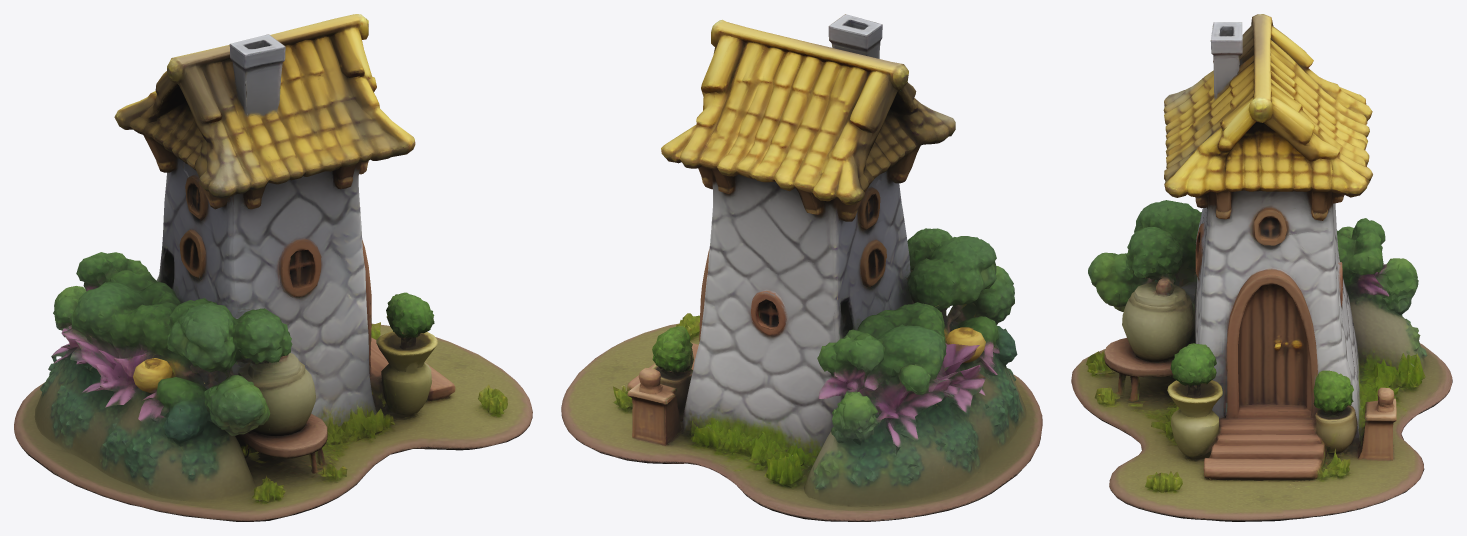
Rendered from fantasyxcottage-south.glb.
The picture shows the model from 3 angles, left to right: view 1: azimuth 30°, elevation 25°; view 2: azimuth 150°, elevation 25°; view 3: azimuth 270°, elevation 25°; orthographic projection. The views are drawn at different scales.
Parts seen in each view (by area): view 1: world_0; view 2: world_0; view 3: world_0.
Part boxes in pixels (box(x1,y1,x2,y2)): world_0: box(14, 14, 532, 521); world_0: box(561, 14, 1042, 521); world_0: box(1071, 14, 1452, 521).
Size of the model in its own units: 0.7758 by 0.6755 by 0.6221.
Materials: 1 (1 with a texture image).
